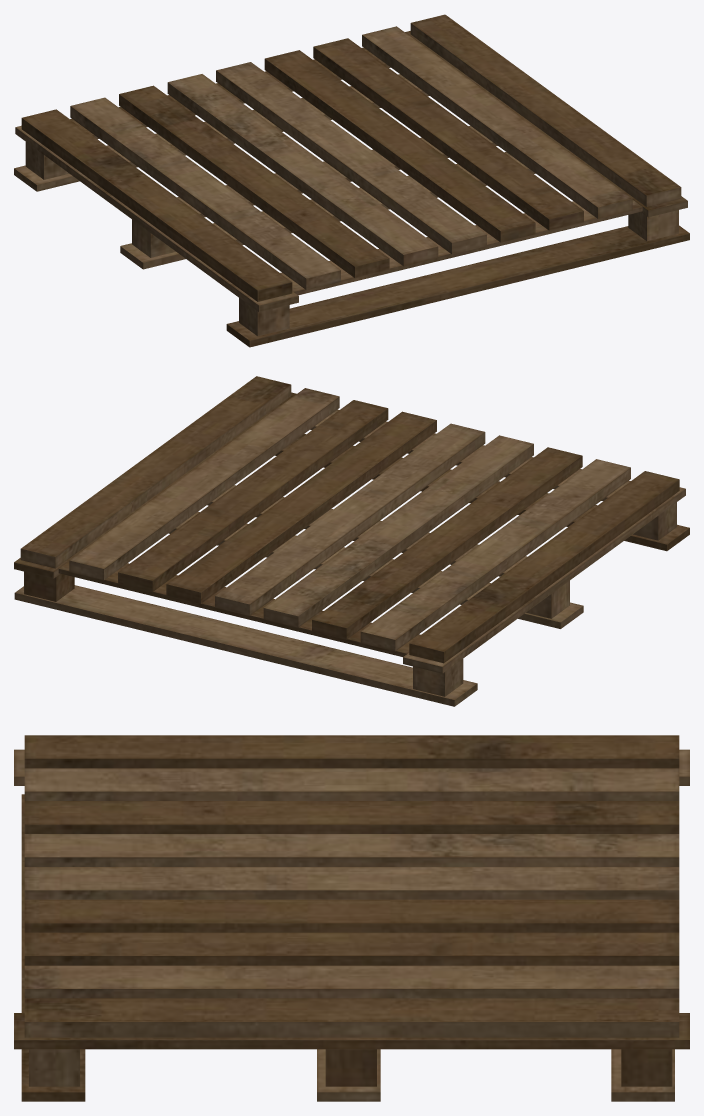
File: pallet.glb
3 views of the same model, one above another, from view 1: azimuth 30°, elevation 25°; view 2: azimuth 150°, elevation 25°; view 3: azimuth 270°, elevation 25° (orthographic). The views are drawn at different scales.
Bounding box in the file's own units: 2.15 × 0.2518 × 2.07.
1 material, 1 textured.
